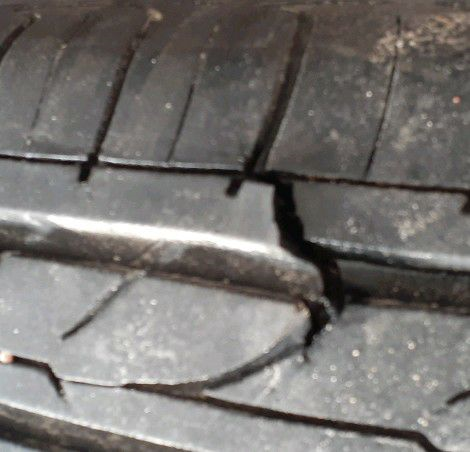tr: (221, 159, 353, 357)
